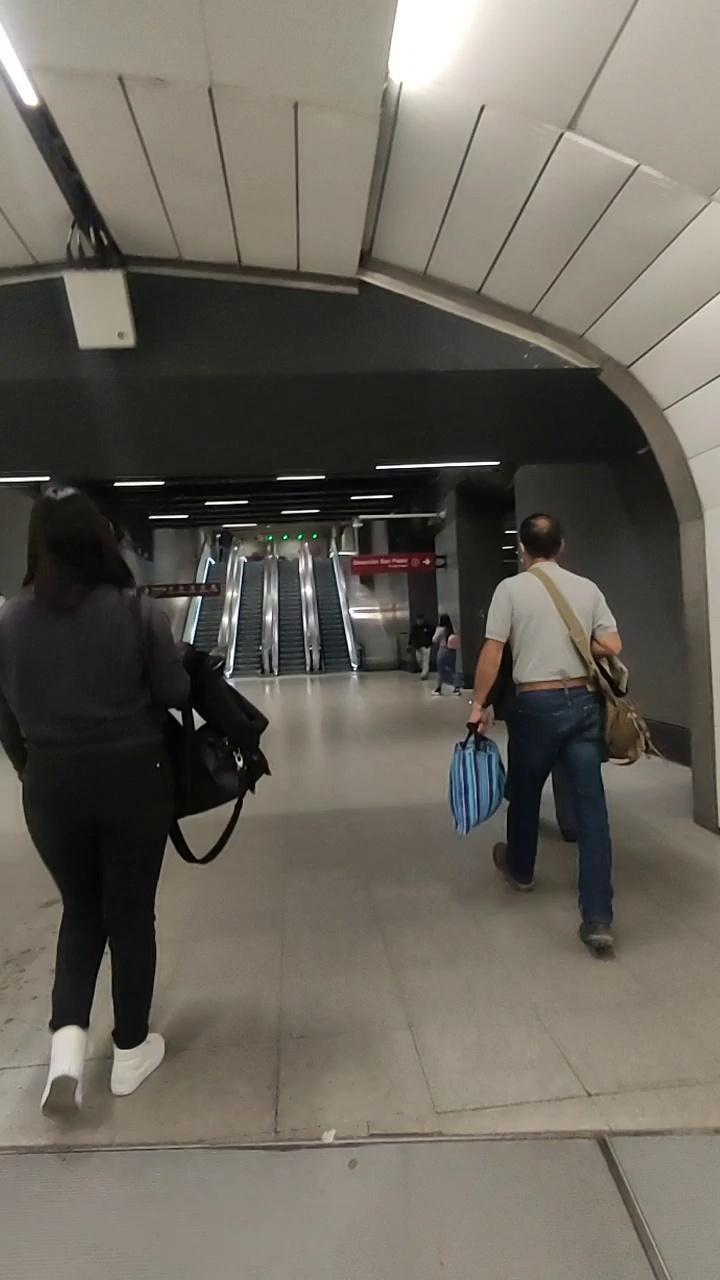left arrow: (422, 556, 431, 567)
